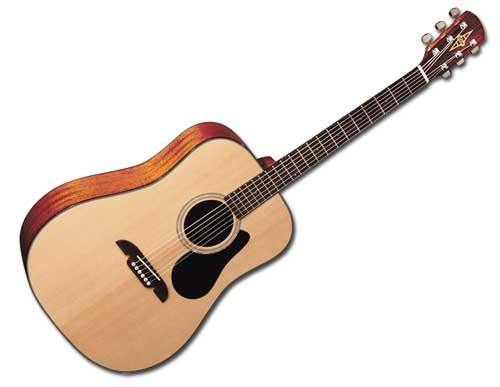guitar: (19, 3, 491, 375)
